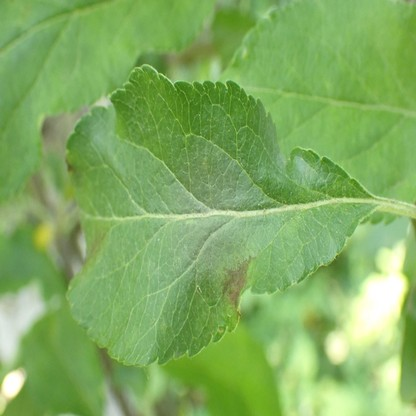scab: (220, 253, 255, 310), (78, 225, 113, 272), (65, 159, 84, 186)
